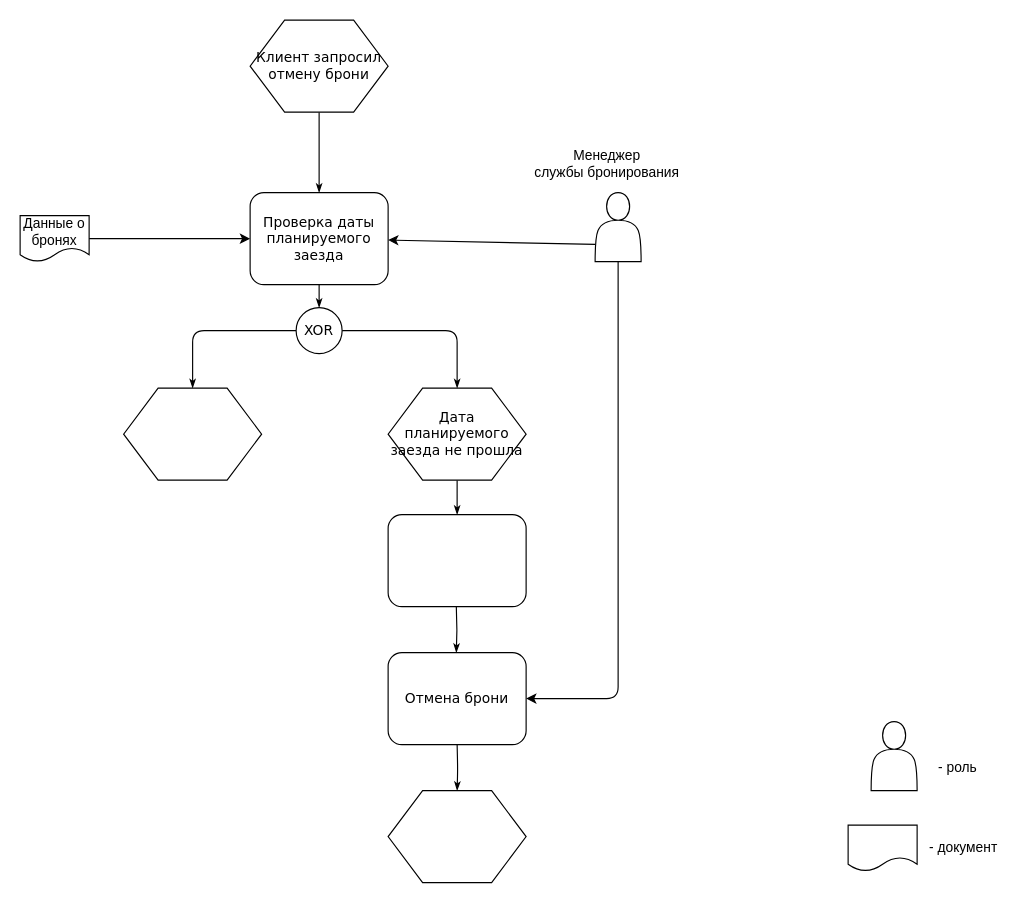
Image size: 1029x903. Some labels were removed from this diagram. Each missing label, with the centre of its shape:
"Возврат средств" belongs at (456,560).
"Дата планируемого заезда прошла" belongs at (192,433).
"Отмена бронирования произведена" belongs at (456,836).
